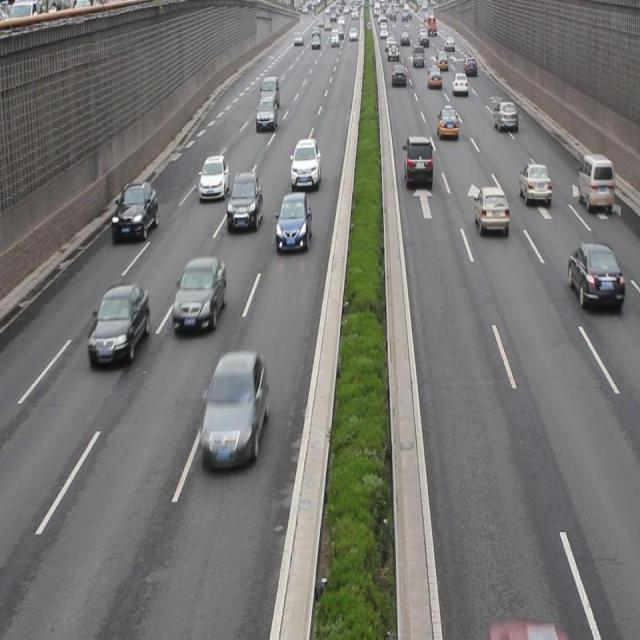car: (202, 354, 270, 472), (88, 284, 150, 364), (566, 240, 622, 316), (172, 256, 226, 334), (112, 182, 159, 241), (276, 193, 310, 253), (227, 172, 261, 230), (474, 185, 507, 238), (402, 136, 433, 190), (518, 162, 549, 208), (198, 156, 229, 202), (290, 141, 320, 188), (436, 105, 457, 138), (494, 102, 516, 129)
truck: (576, 153, 613, 212)
